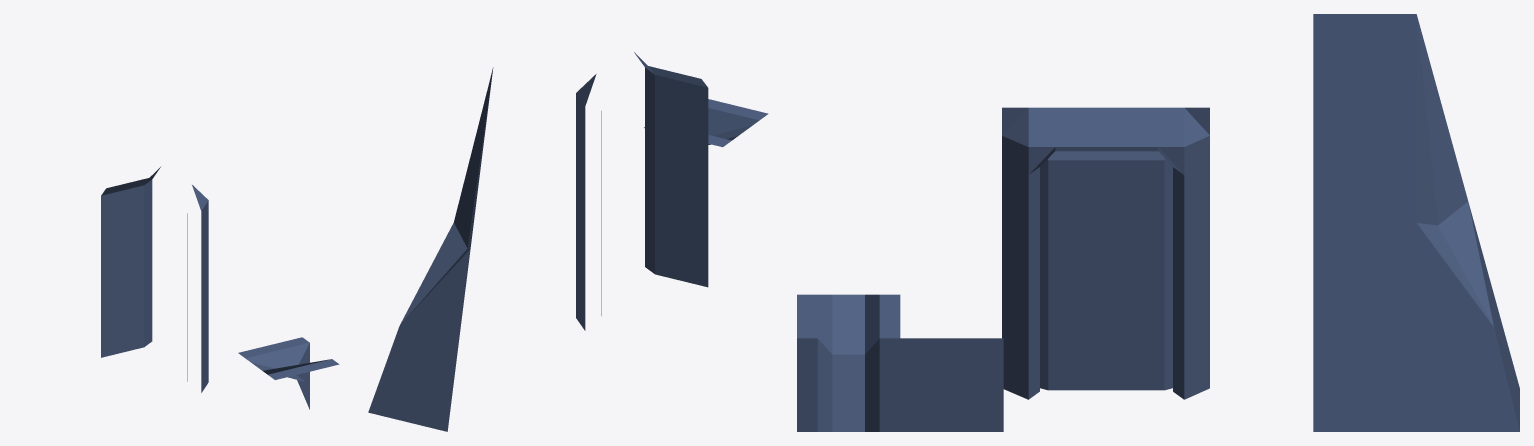
The model's file is Demo Wall.glb.
3 renders of one model, left to right at view 1: azimuth 30°, elevation 25°; view 2: azimuth 150°, elevation 25°; view 3: azimuth 270°, elevation 25°, orthographic. The views are drawn at different scales.
Visible parts, largest first — view 1: Wall.008, Wall.010; view 2: Wall.008, Wall.007, Wall.010; view 3: Wall.008, Wall.006, Wall.007, Wall.010, Wall.009.
Part boxes in pixels (x1=…): Wall.008: x1=101, y1=167, x2=208, y2=392; Wall.010: x1=238, y1=337, x2=339, y2=409; Wall.008: x1=576, y1=52, x2=708, y2=330; Wall.007: x1=368, y1=67, x2=493, y2=431; Wall.010: x1=644, y1=99, x2=768, y2=147; Wall.008: x1=1002, y1=107, x2=1209, y2=399; Wall.006: x1=1313, y1=14, x2=1416, y2=431; Wall.007: x1=1416, y1=15, x2=1519, y2=431; Wall.010: x1=797, y1=294, x2=900, y2=431; Wall.009: x1=900, y1=338, x2=1003, y2=431.
Size of the model in its own units: 3.19 by 8 by 14.
